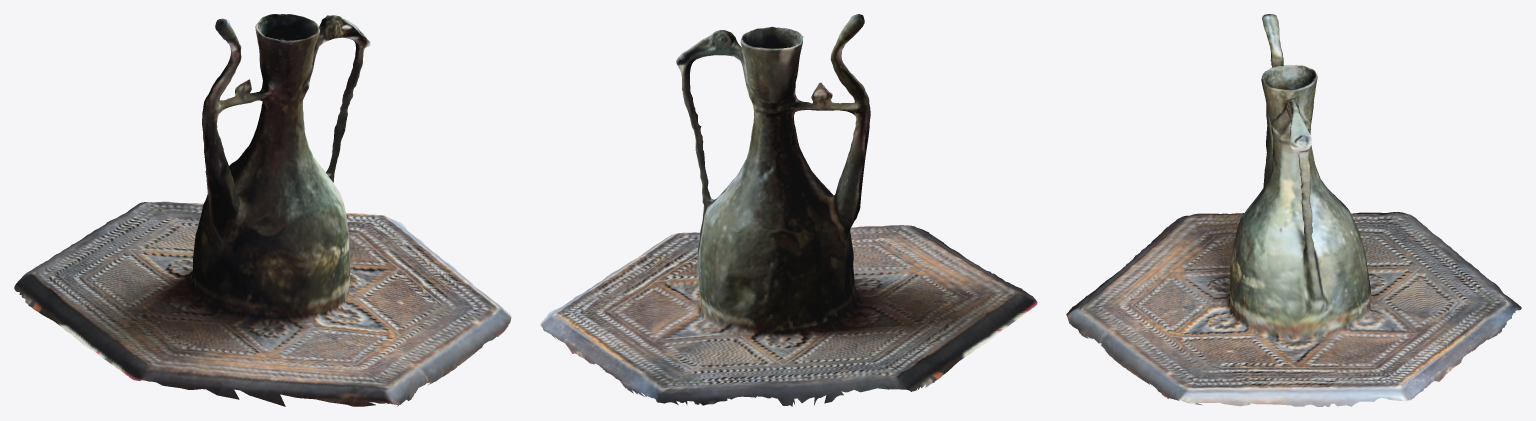
The model's file is 18th_century_ottoman_brass_kettle_scaniverse.glb.
The picture shows the model from 3 angles, left to right: view 1: azimuth 30°, elevation 25°; view 2: azimuth 150°, elevation 25°; view 3: azimuth 270°, elevation 25°; orthographic projection. The views are drawn at different scales.
Parts seen in each view (by area): view 1: mesh_main_0; view 2: mesh_main_0; view 3: mesh_main_0.
Boxes of the visible parts, x1,y1,x2,y2 form: mesh_main_0: [14, 14, 511, 406]; mesh_main_0: [540, 14, 1037, 406]; mesh_main_0: [1066, 14, 1521, 406].
Size of the model in its own units: 0.4449 by 0.3621 by 0.5191.
Materials: 1 (1 with a texture image).
